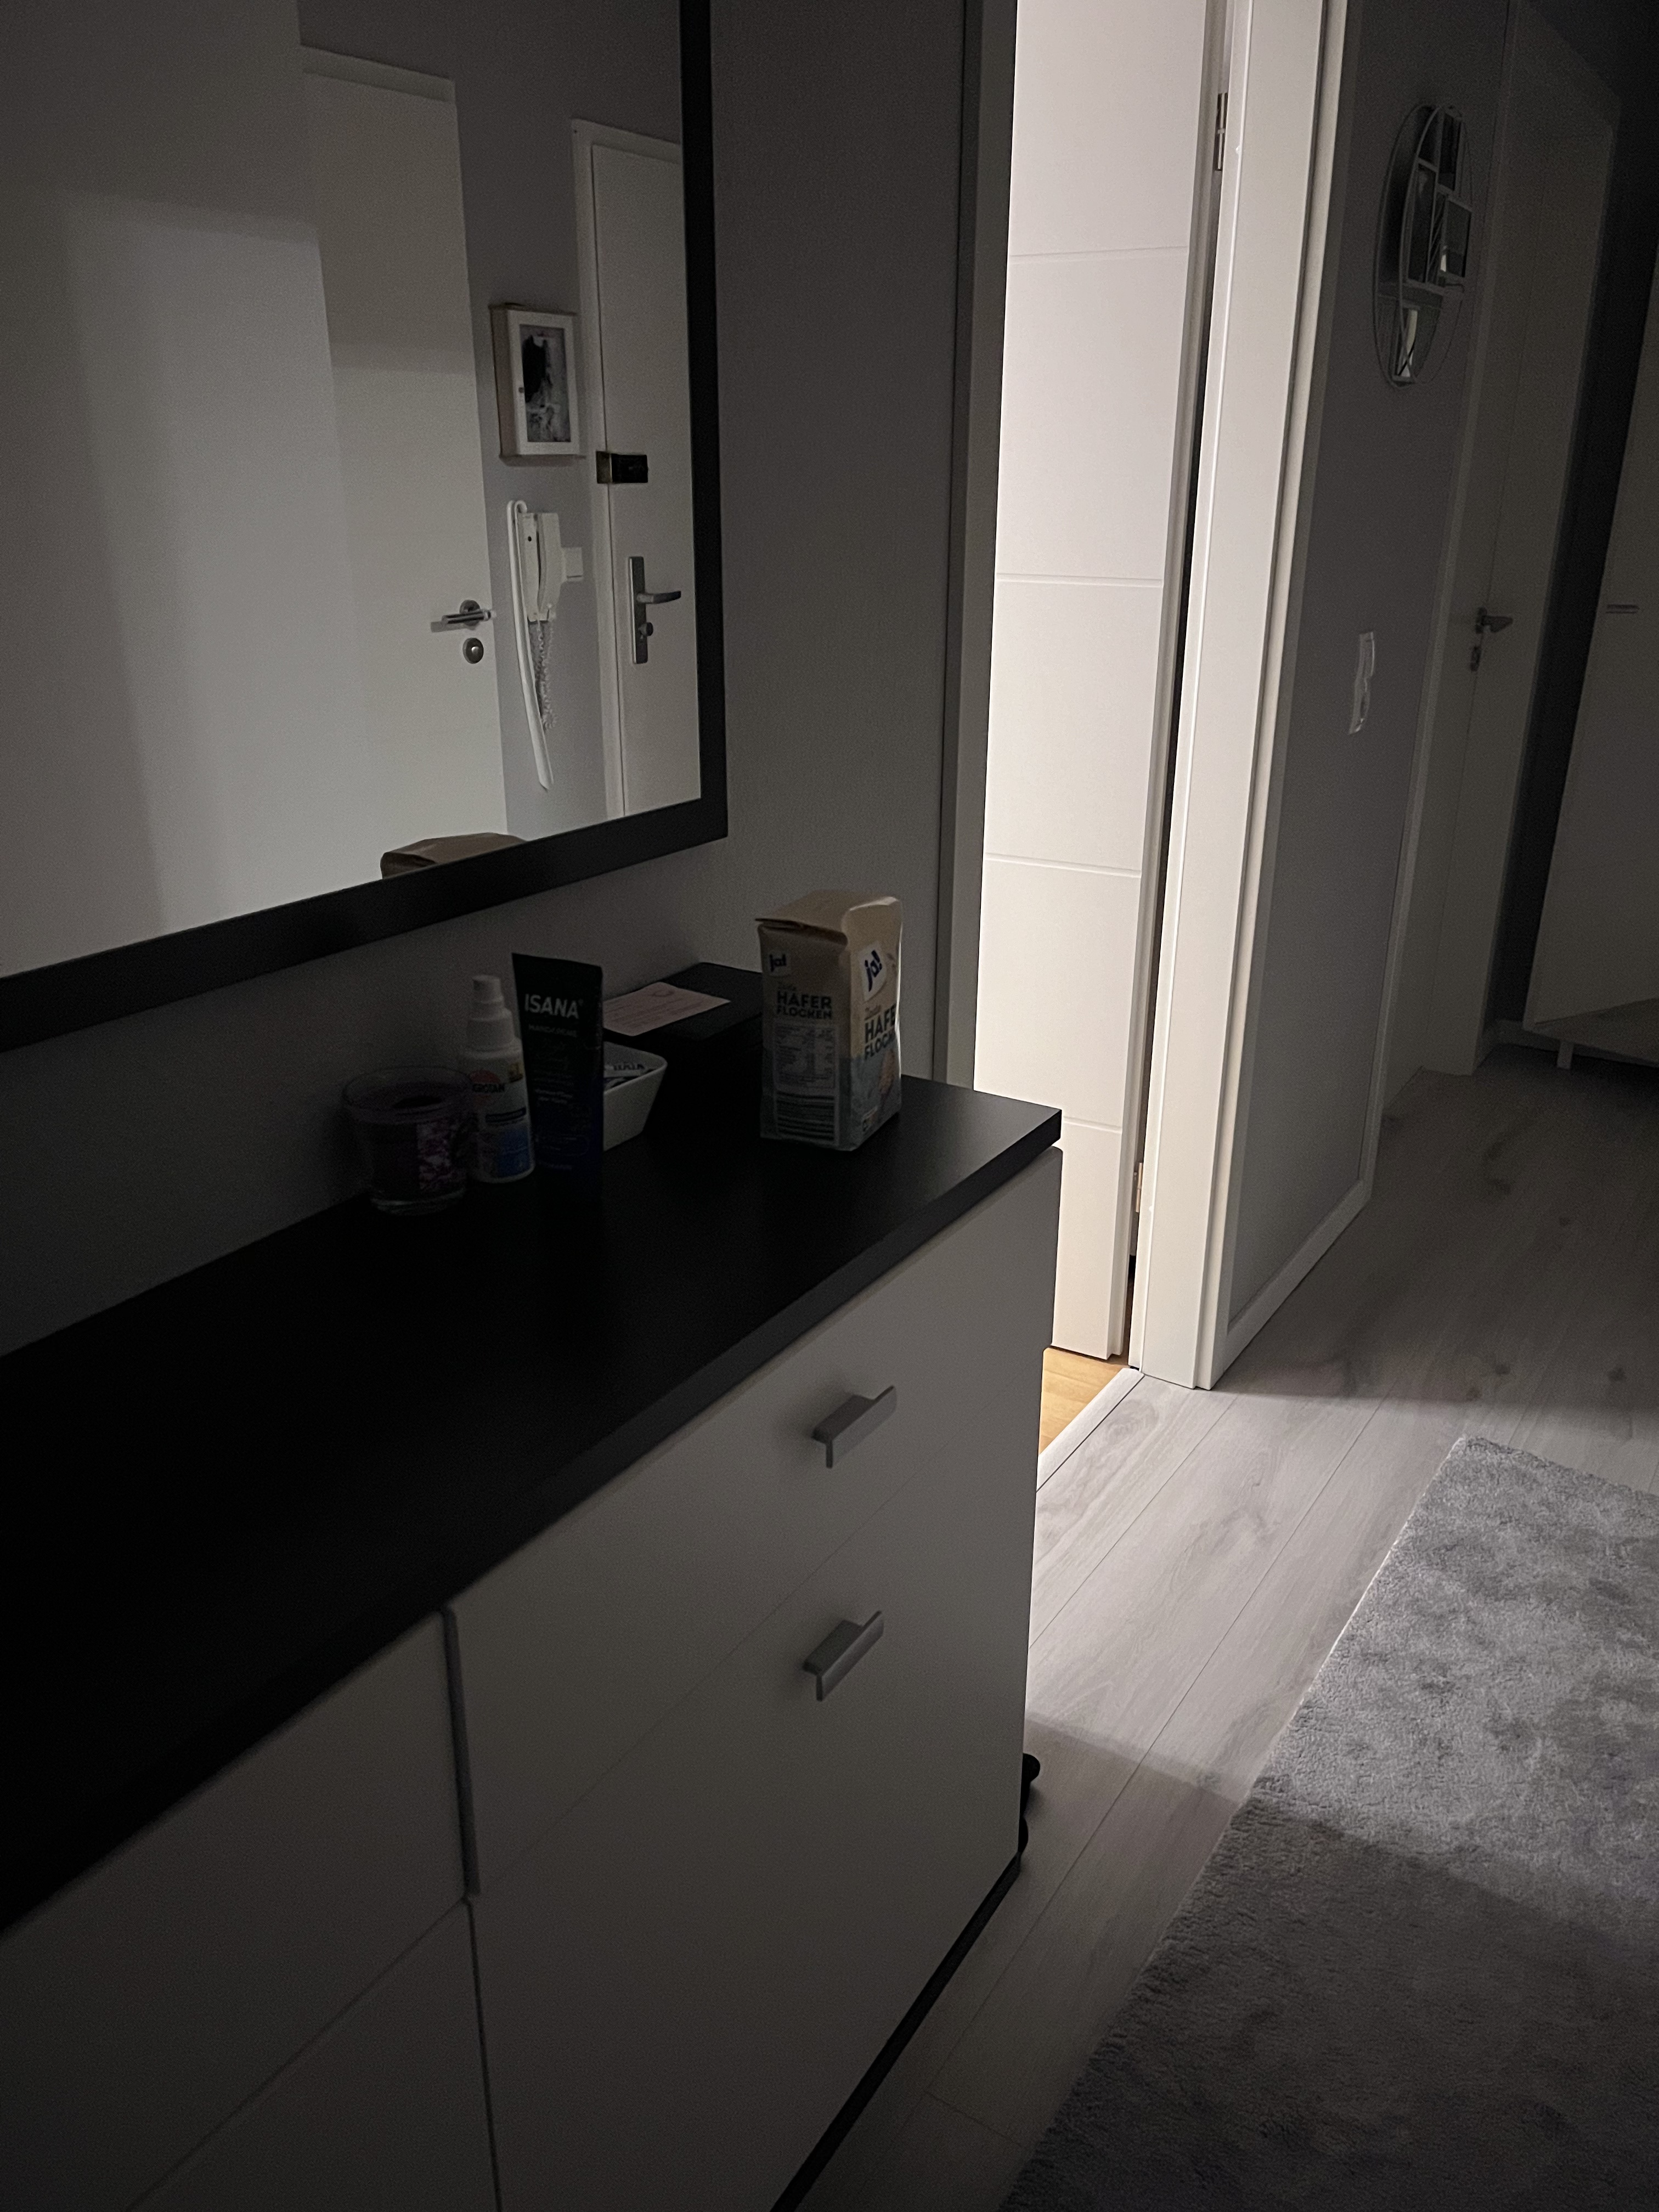haferflocken_ja: (756, 890, 904, 1150)
